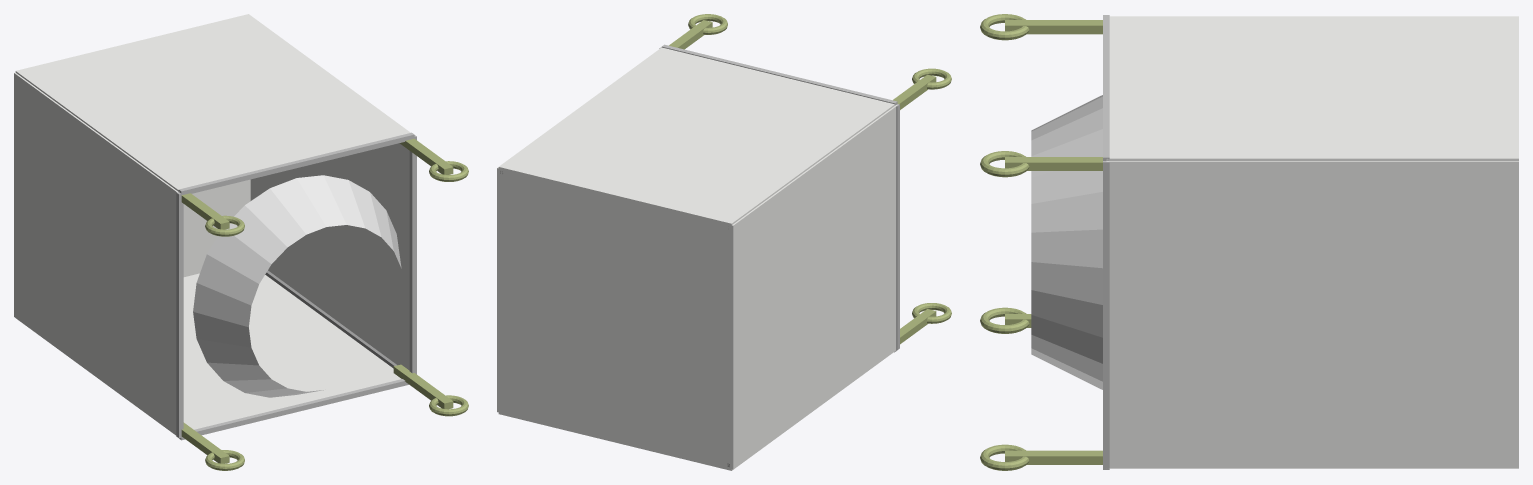
File: modelo-pollera-ciego.glb
3 renders of one model, left to right at view 1: azimuth 30°, elevation 25°; view 2: azimuth 150°, elevation 25°; view 3: azimuth 270°, elevation 25°, orthographic. The views are drawn at different scales.
Visible parts, largest first — view 1: left_shell, back_shell, right_shell, accesorio_pollera_ciego, front_shell, bottom, top_left_rim, top_back_rim, top_right_rim, top_front_rim, side_seam_0.438, loop_strap_1 (+7 smaller); view 2: bottom, left_shell, back_shell, top_left_rim, top_back_rim, front_shell, right_shell, loop_strap_2, loop_strap_0, loop_strap_3, loop_top_3, loop_top_2 (+1 smaller); view 3: right_shell, back_shell, accesorio_pollera_ciego, top_right_rim, loop_strap_1, loop_strap_2, loop_strap_3, top_back_rim, front_shell, loop_top_1, loop_top_0, loop_top_2 (+1 smaller).
Boxes of the visible parts, x1,y1,x2,y2 form: left_shell: (14, 72, 178, 435); back_shell: (15, 14, 410, 192); right_shell: (250, 143, 409, 370); accesorio_pollera_ciego: (193, 175, 401, 397); front_shell: (33, 273, 401, 429); bottom: (183, 179, 250, 276); top_left_rim: (176, 192, 183, 438); top_back_rim: (178, 132, 414, 195); top_right_rim: (409, 135, 416, 374); top_front_rim: (179, 379, 408, 440); side_seam_0.438: (265, 270, 396, 368); loop_strap_1: (393, 364, 453, 409); bottom: (498, 169, 731, 466); left_shell: (730, 105, 897, 469); back_shell: (498, 47, 894, 226); top_left_rim: (896, 104, 899, 350); top_back_rim: (662, 44, 897, 105); front_shell: (498, 351, 894, 470); right_shell: (497, 167, 499, 412); loop_strap_2: (893, 74, 936, 109); loop_strap_0: (900, 309, 936, 344); loop_strap_3: (669, 20, 712, 49); loop_top_3: (688, 14, 727, 34); loop_top_2: (912, 68, 951, 89); right_shell: (1106, 161, 1518, 467); back_shell: (1106, 16, 1518, 160); accesorio_pollera_ciego: (1031, 95, 1102, 389); top_right_rim: (1103, 161, 1109, 468); loop_strap_1: (1005, 450, 1102, 464); loop_strap_2: (1005, 20, 1102, 34); loop_strap_3: (1005, 157, 1102, 170); top_back_rim: (1103, 15, 1109, 160); front_shell: (1109, 467, 1518, 468); loop_top_1: (980, 444, 1029, 470); loop_top_0: (980, 307, 1029, 333); loop_top_2: (980, 14, 1029, 40).
Size of the model in its own units: 0.998 by 0.918 by 1.44.
